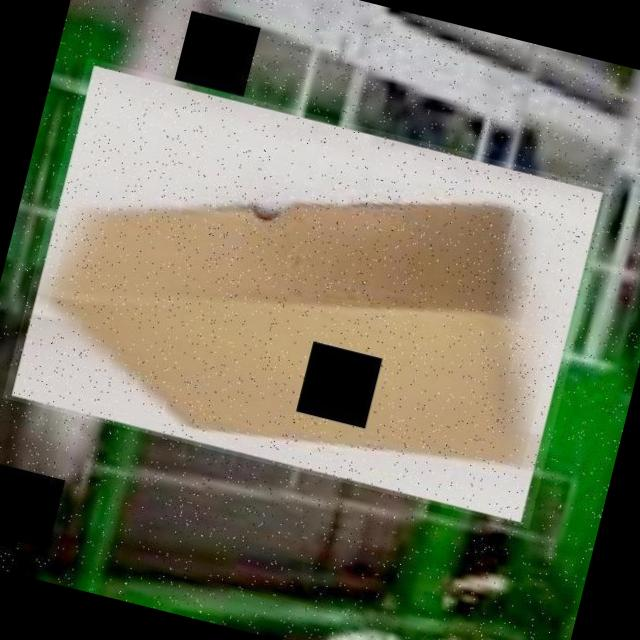box: (2, 58, 613, 528)
